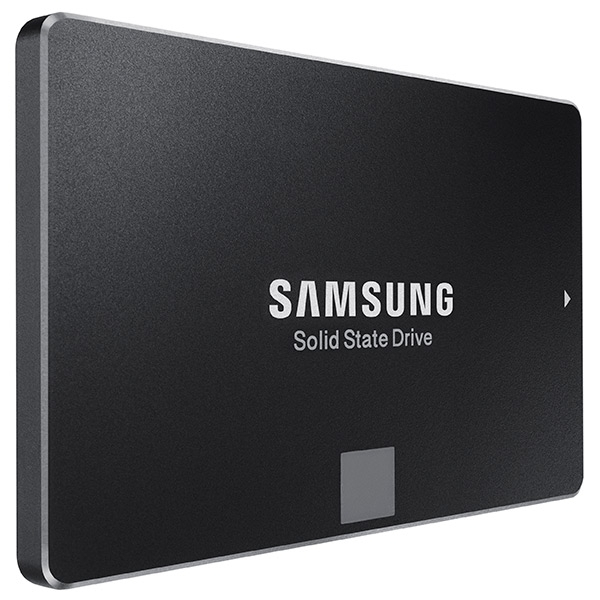samsung-hdd-240gb: (4, 48, 594, 576)
